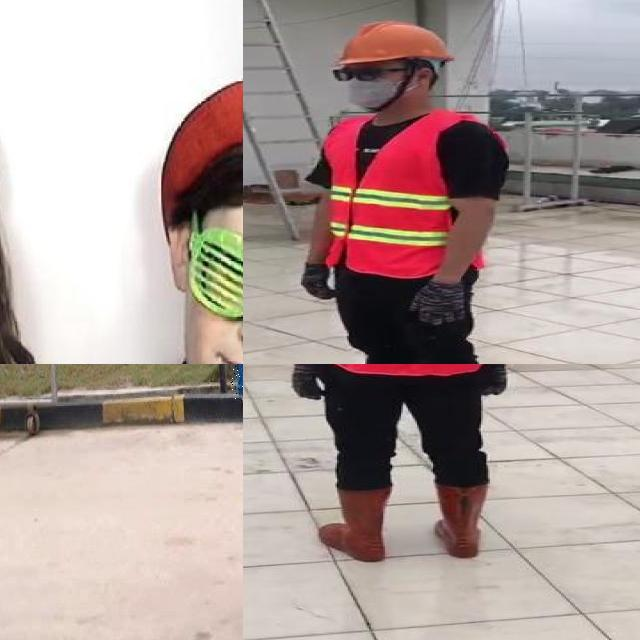boots: (317, 484, 394, 562), (430, 483, 507, 558)
face_mask: (333, 61, 413, 110)
face_nomask: (197, 245, 243, 364)
glasses: (185, 221, 243, 364), (328, 62, 398, 85)
hand_glove: (406, 281, 472, 328), (298, 259, 340, 299), (285, 364, 331, 400), (474, 364, 515, 396)
head_helmet: (331, 17, 456, 72)
head_nohelmet: (169, 99, 243, 226)
person: (290, 15, 516, 364), (275, 364, 547, 563)
vest: (317, 113, 488, 274)
